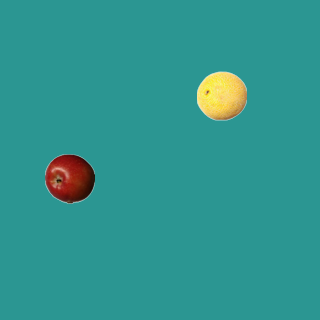Apple Braeburn: (44, 153, 94, 203)
Cantaloupe 1: (196, 70, 246, 120)
